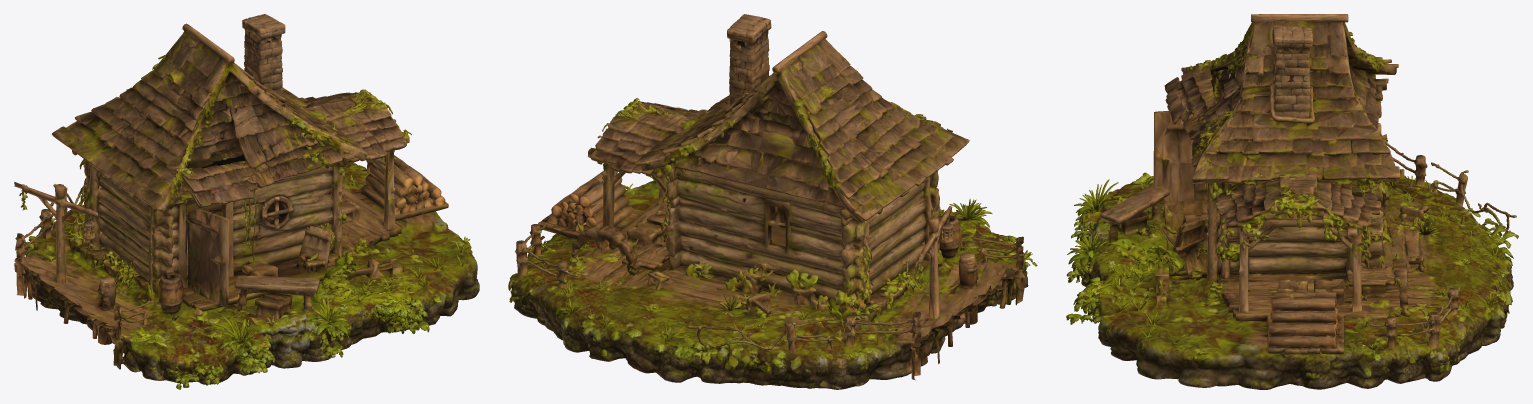
File: cabana.glb
3 views of the same model, side by side, from view 1: azimuth 30°, elevation 25°; view 2: azimuth 150°, elevation 25°; view 3: azimuth 270°, elevation 25° (orthographic). The views are drawn at different scales.
Visible parts, largest first — view 1: Mesh_0; view 2: Mesh_0; view 3: Mesh_0.
Boxes of the visible parts, left/top/right/bottom form: Mesh_0: left=14, top=14, right=479, bottom=389; Mesh_0: left=508, top=14, right=1037, bottom=389; Mesh_0: left=1066, top=14, right=1518, bottom=389.
Size of the model in its own units: 6.19 by 4 by 6.04.
Materials: 1 (1 with a texture image).
